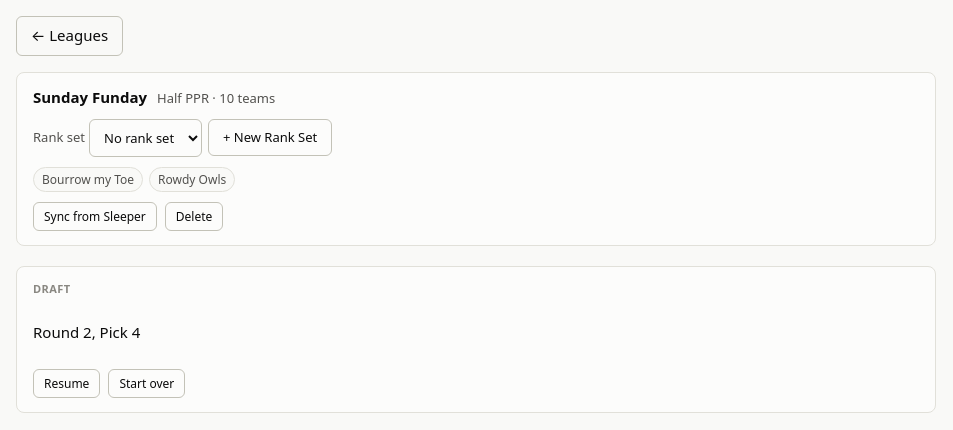
Test: LeagueDetailPage › the delete confirm mentions the in-progress draft when one exists
Click the button "Delete". click: coordinates (194, 217)
box: [165, 202, 223, 231]
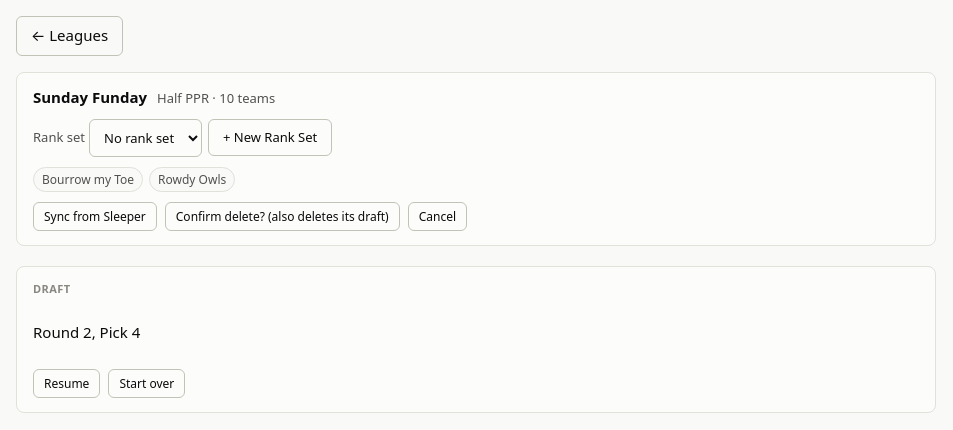
Now the button "Confirm delete? (also deletes its draft)" is shown, box [165, 202, 400, 231]
